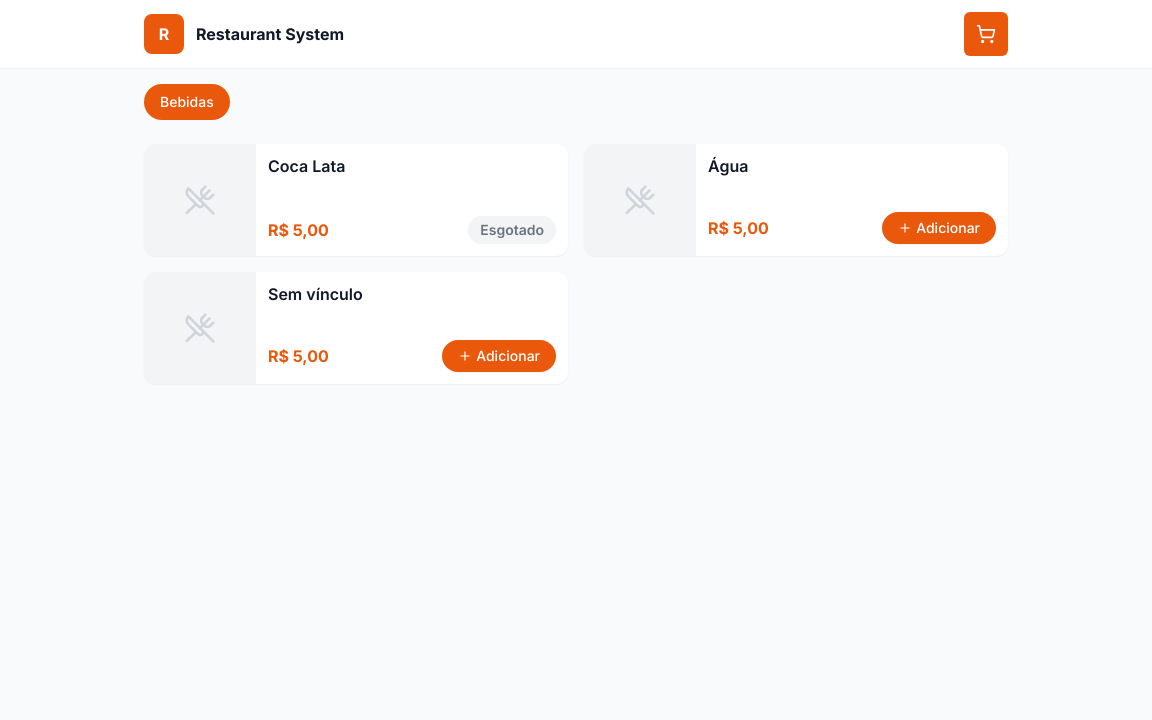
Test: public delivery checkout › labels every checkout field and lets the phone autofill name and phone
This screenshot has width=1152, height=720.
Click the button "Adicionar" below "Água" at point(939, 228), box x1=882 y1=212 x2=996 y2=244
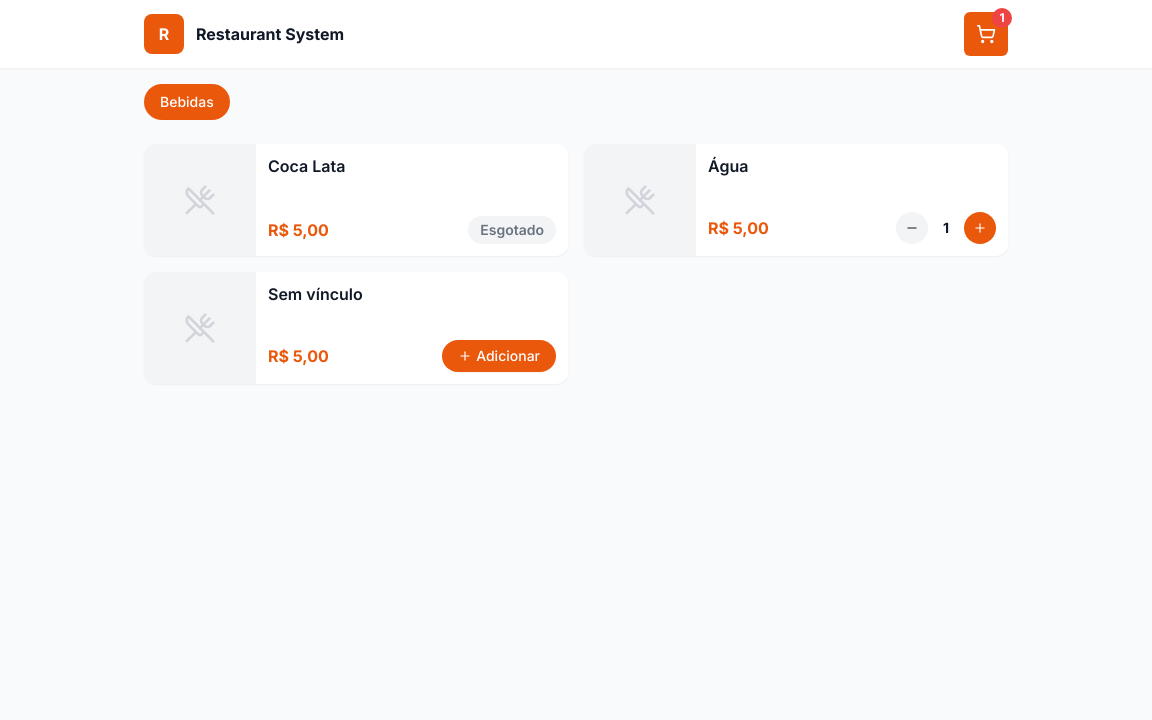
Click the button named "Abrir carrinho" at point(986, 34), box x1=964 y1=12 x2=1008 y2=56
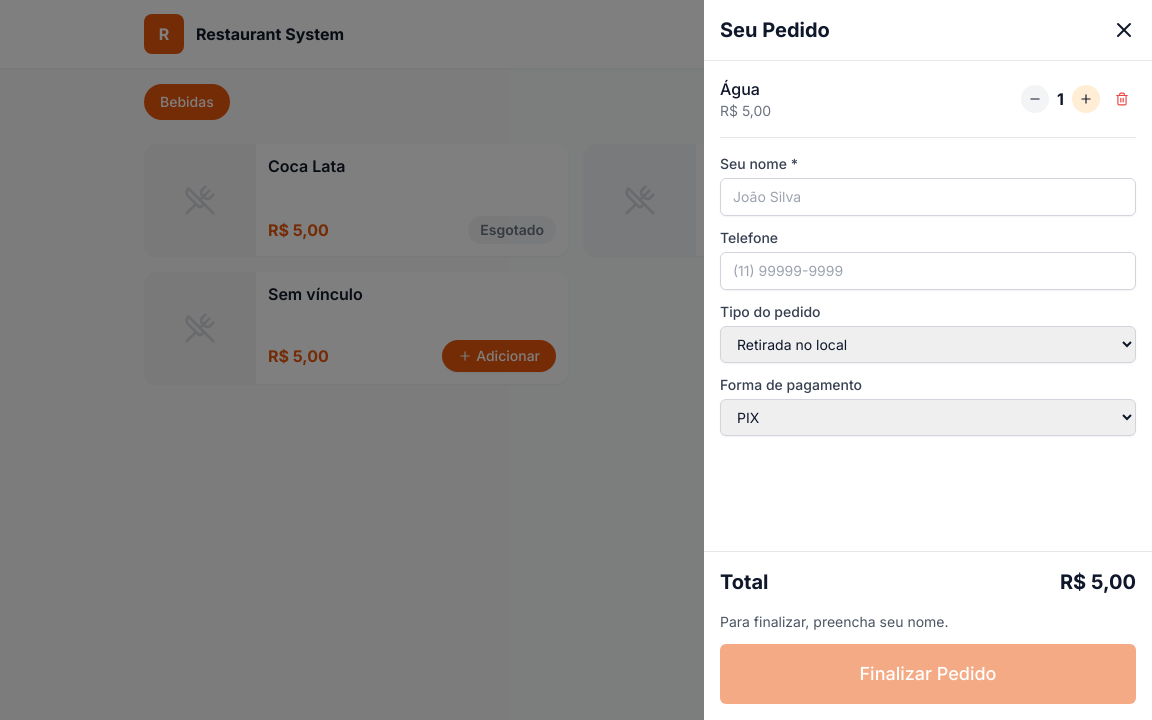
Result: the dropdown labelled "Tipo do pedido" shows "Retirada no local" at x1=720 y1=326 x2=1136 y2=363
